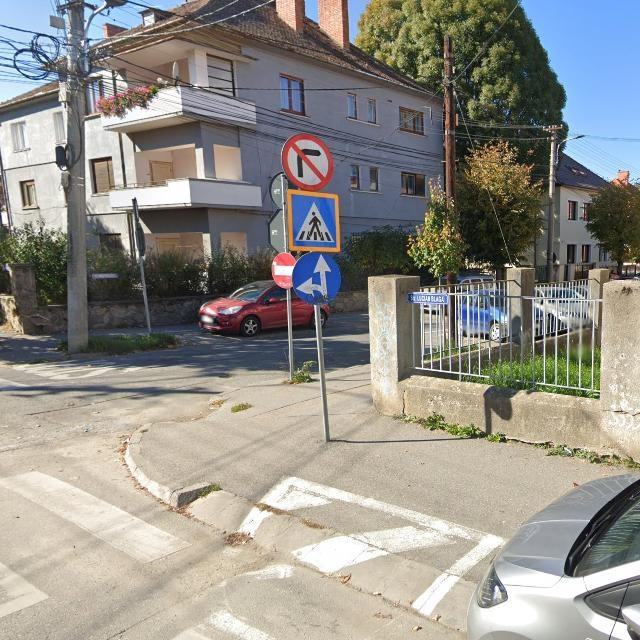info_crosswalk: (286, 189, 342, 254)
